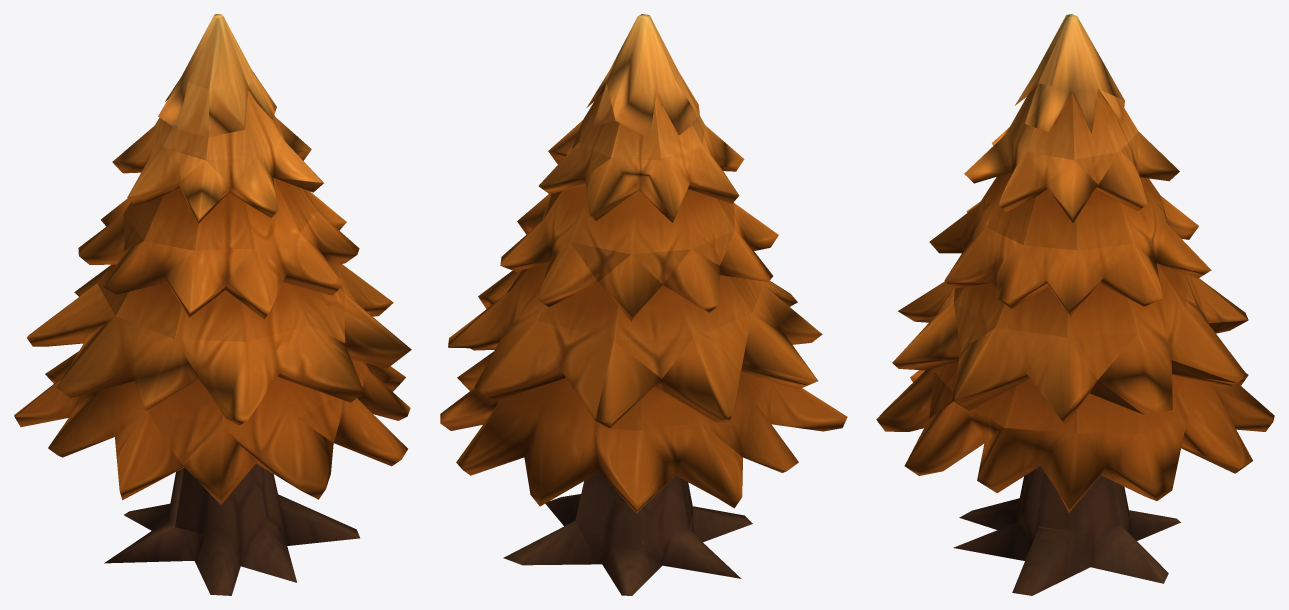
Rendered from Meshy_AI_Autumn_Pine_Miniature_0813201820_texture.fbx.
3 views of the same model, side by side, from view 1: azimuth 30°, elevation 25°; view 2: azimuth 150°, elevation 25°; view 3: azimuth 270°, elevation 25° (orthographic).
Parts seen in each view (by area): view 1: mesh_node; view 2: mesh_node; view 3: mesh_node.
Part boxes in pixels (x1,y1,x2,y2): mesh_node: [14, 14, 411, 595]; mesh_node: [440, 14, 847, 595]; mesh_node: [876, 14, 1274, 595].
Bounding box in the file's own units: 141 × 200 × 138.
Materials: 1 (1 with a texture image).
